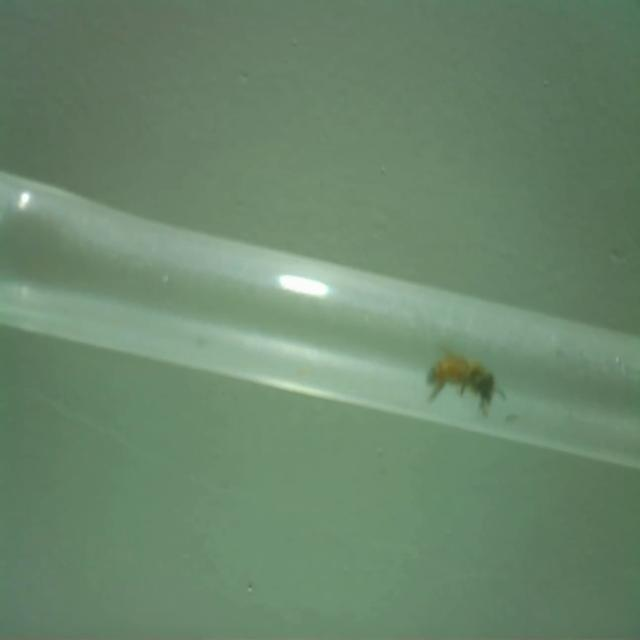Honeybee-Detection: (426, 346, 506, 417)
